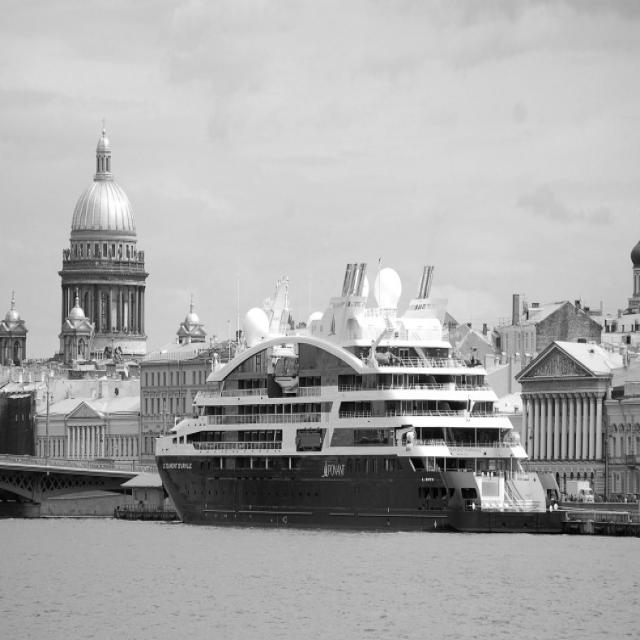cruises: (154, 259, 572, 547)
